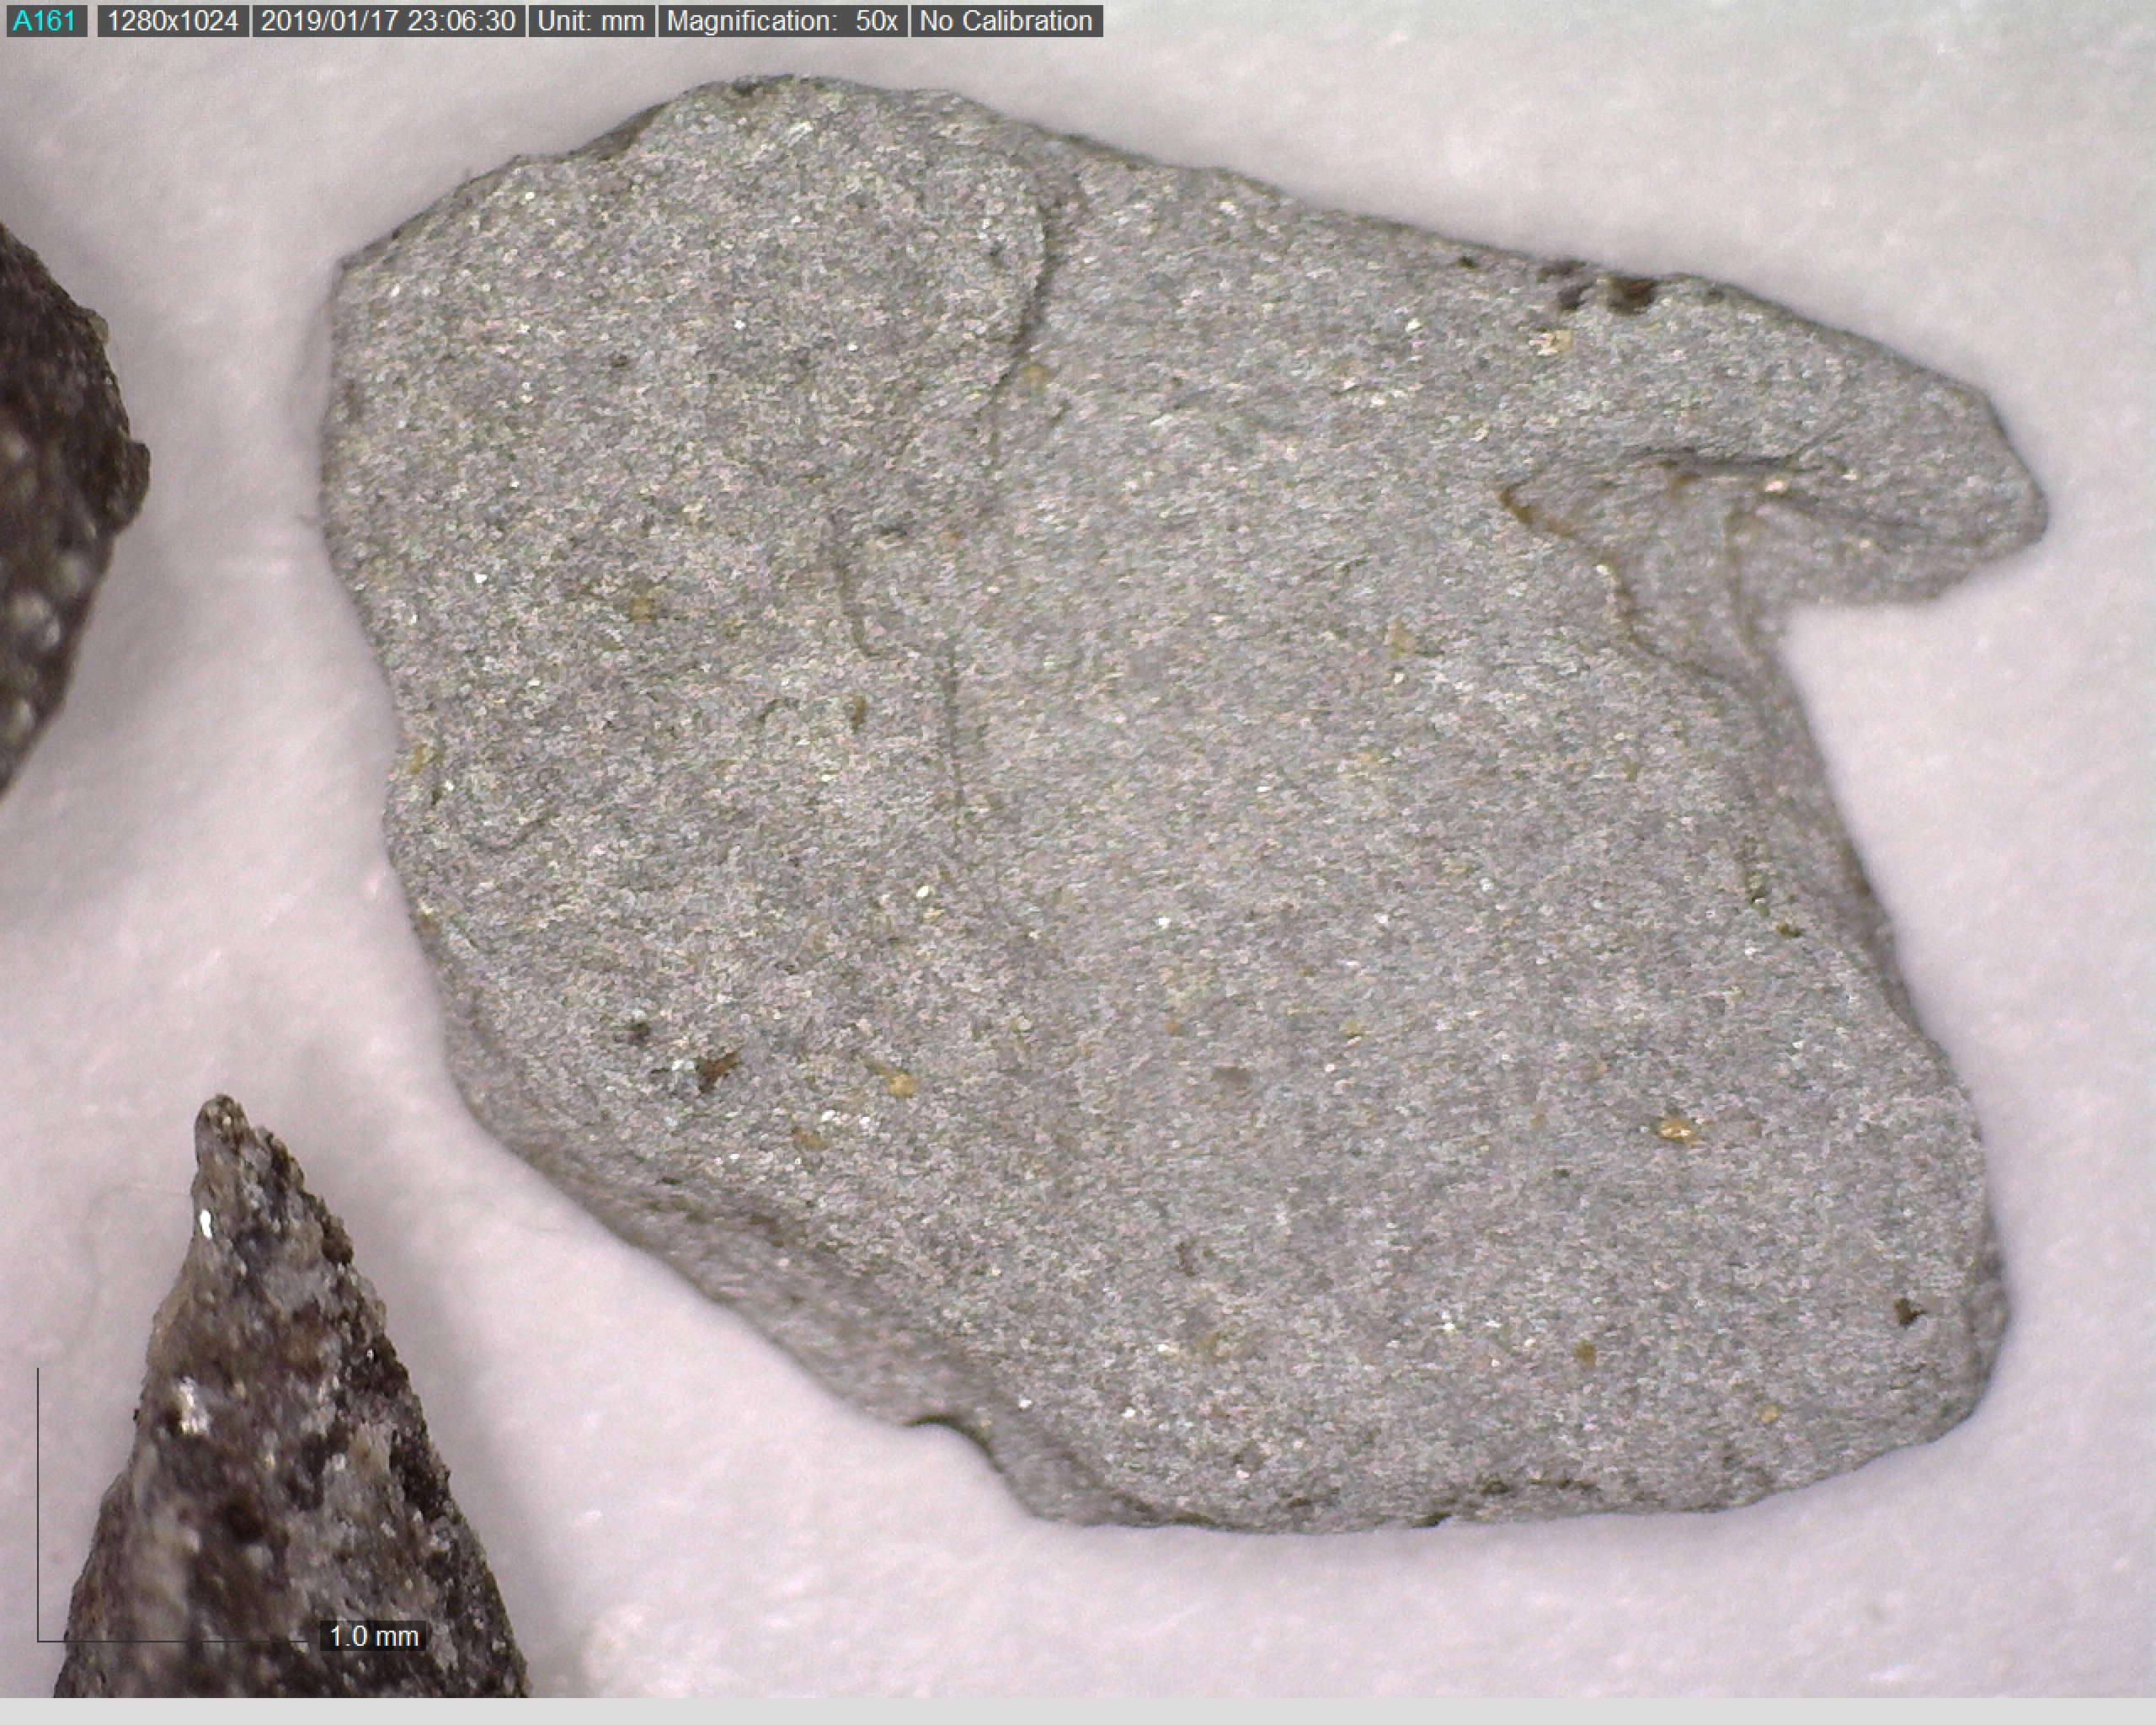Shale: (285, 58, 2054, 1551)
